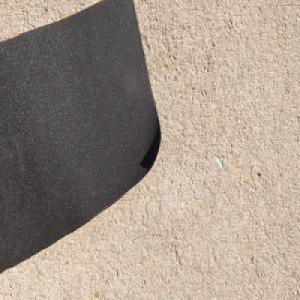PaintChip: (2, 0, 169, 276)
